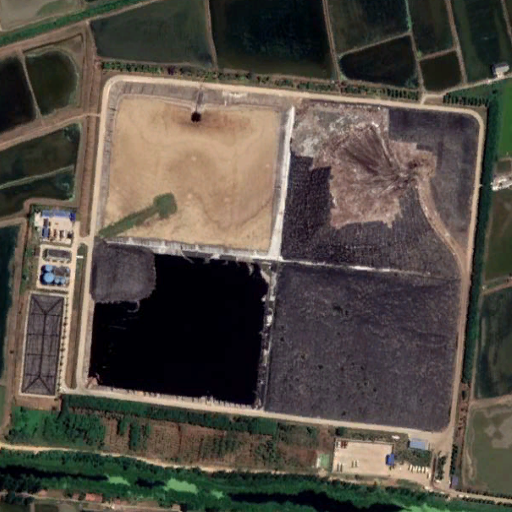lf: (59, 53, 490, 443)
